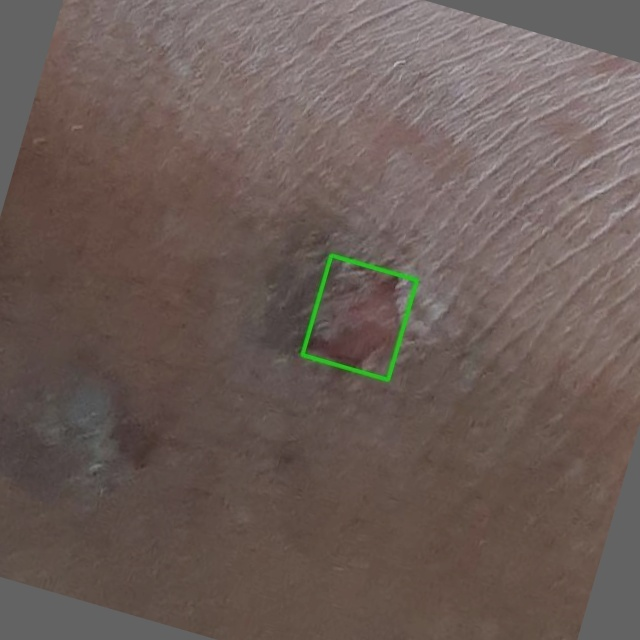Eczema: (302, 255, 416, 379)
